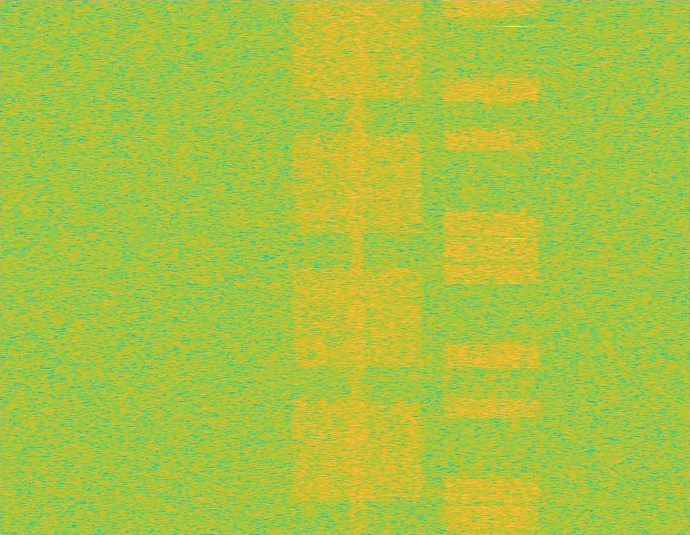5G: (289, 0, 427, 534)
DSSS: (348, 0, 367, 534)
LTE: (440, 0, 543, 534)
Radar: (509, 0, 523, 534)
